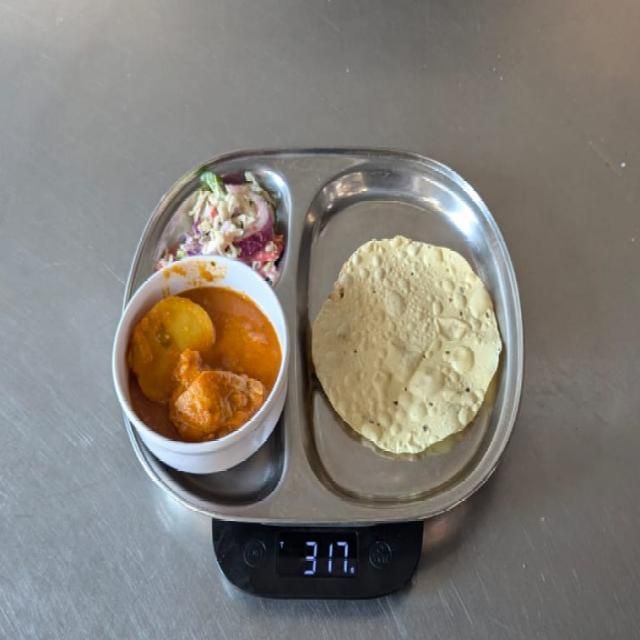Chicken Curry: (126, 285, 288, 445)
Papad: (311, 235, 504, 455)
Salad: (150, 168, 286, 283)
